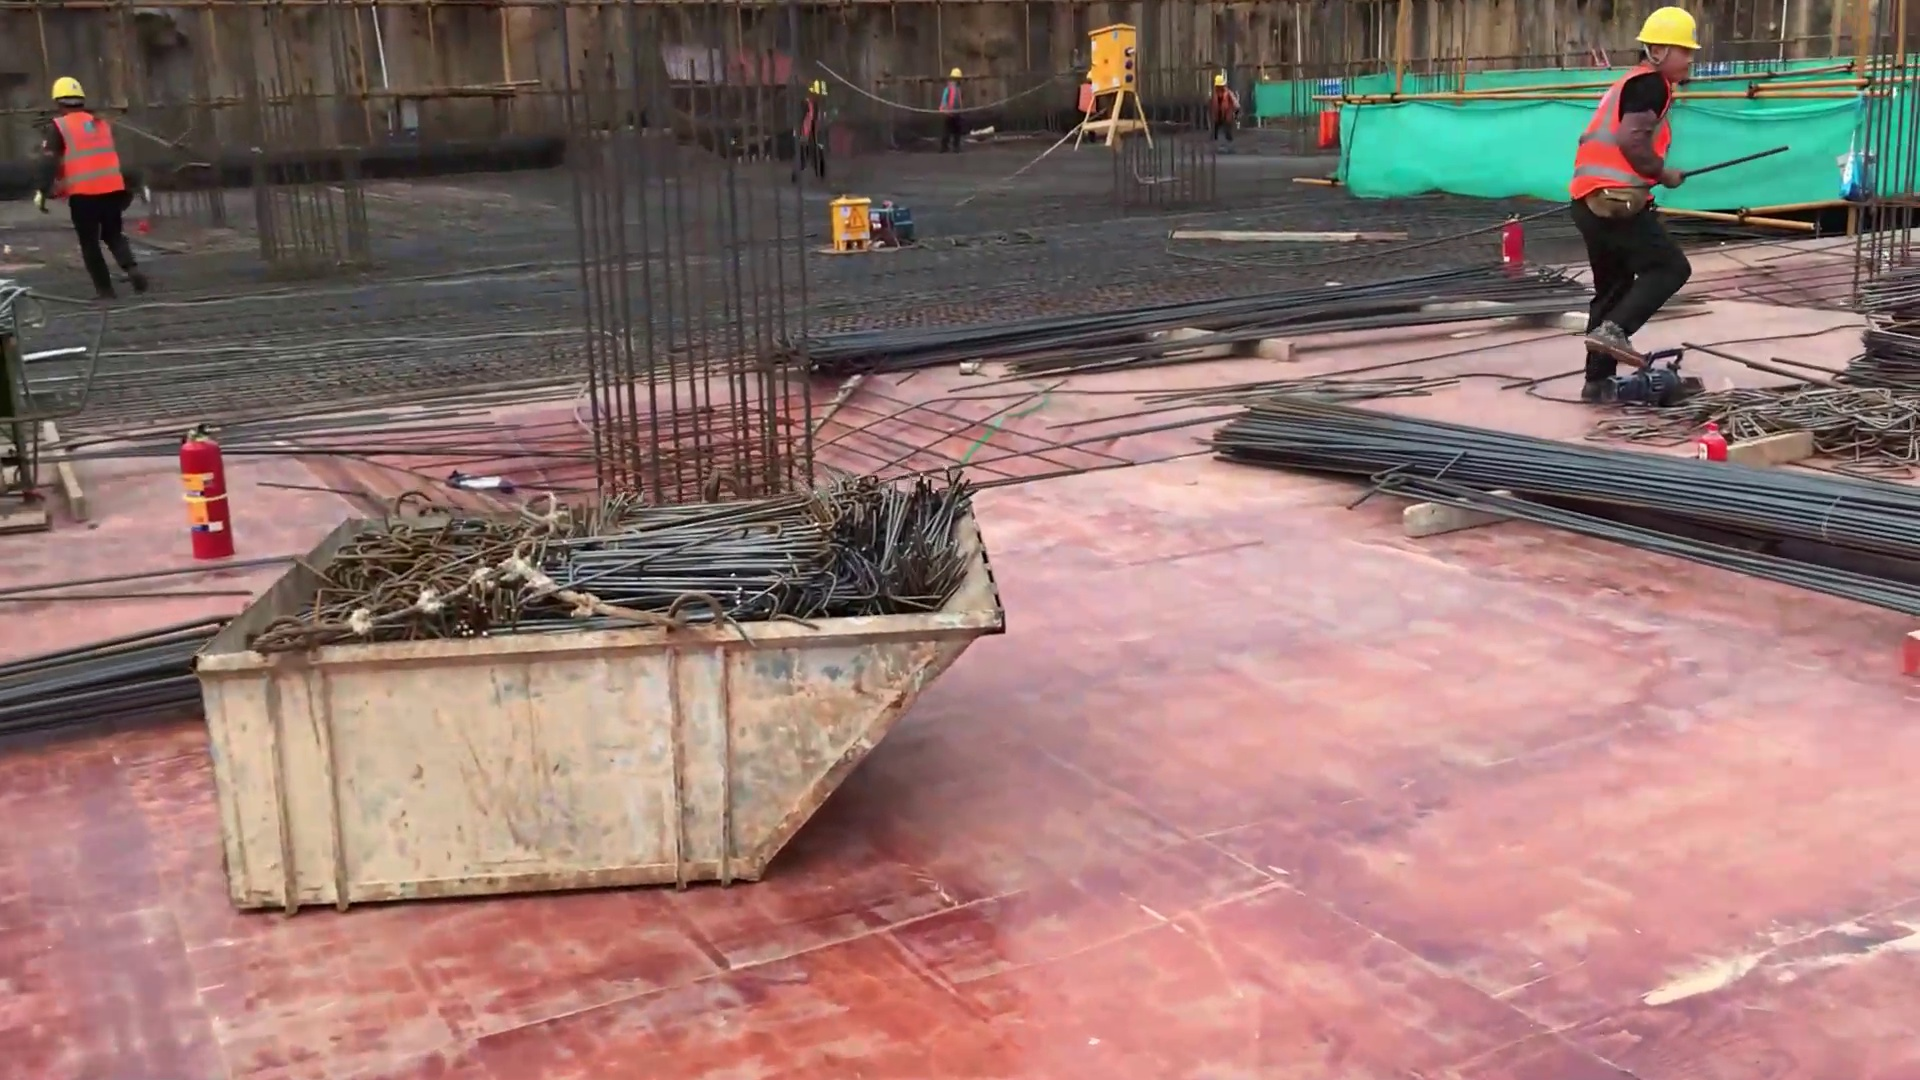helmet: (1634, 7, 1703, 53), (53, 75, 85, 103), (949, 69, 962, 79), (1213, 75, 1225, 86), (1087, 69, 1091, 79)
person: (1576, 1, 1701, 401), (31, 71, 163, 295), (779, 80, 831, 173), (1199, 71, 1244, 141), (1069, 65, 1103, 146), (934, 66, 964, 150)
vest: (1564, 73, 1679, 211), (43, 115, 128, 193), (797, 98, 823, 136), (941, 82, 959, 117), (1211, 89, 1229, 121), (1077, 83, 1095, 112)
